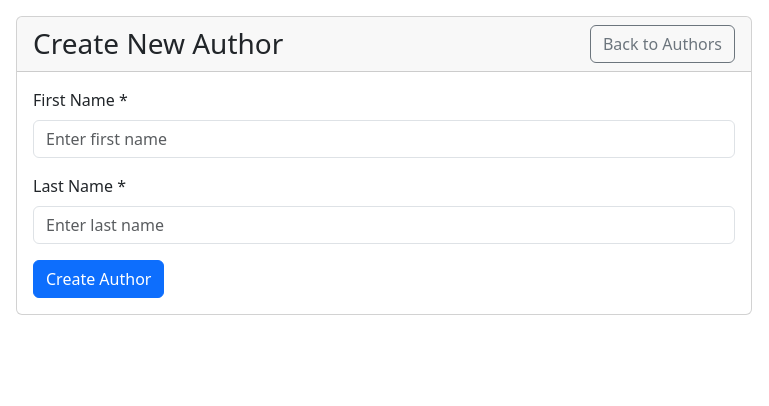
Scenario: AuthorCreate › shows network errors from createAuthor
This screenshot has width=769, height=406.
In the field labelled "First Name *": coordinates (384, 139) [33,120,735,158], type "Jane"
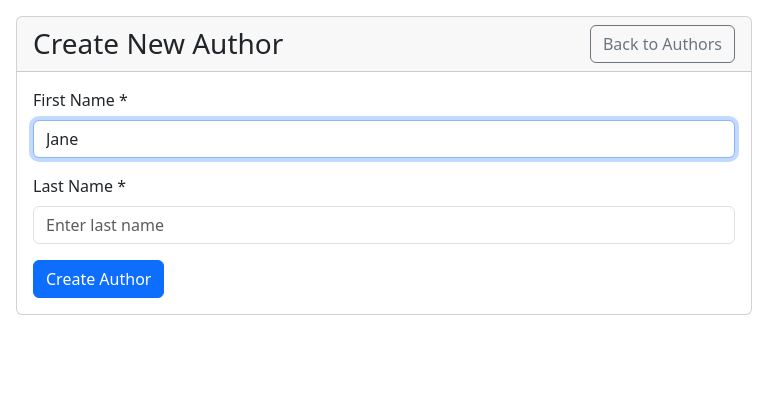
In the field labelled "Last Name *": coordinates (384, 225) [33,206,735,244], type "Smith"
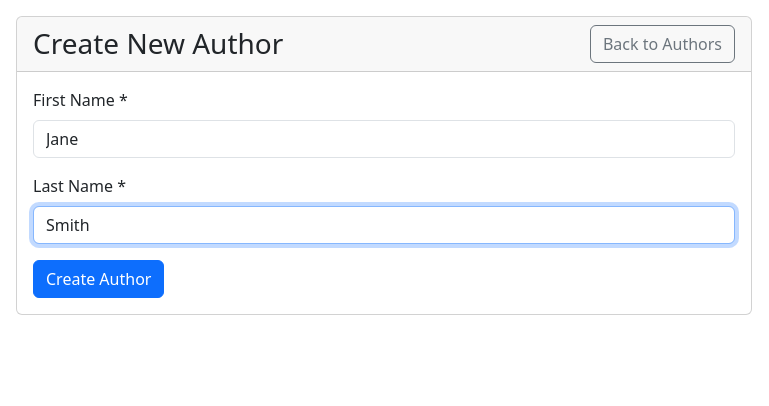
Click the button "Create Author": coordinates (99, 279) [33,260,164,298]
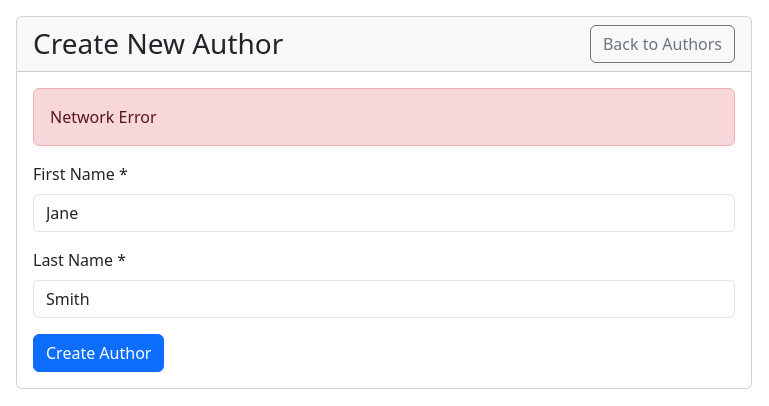
Result: the text "Network Error" is shown at [33,88,735,146]
